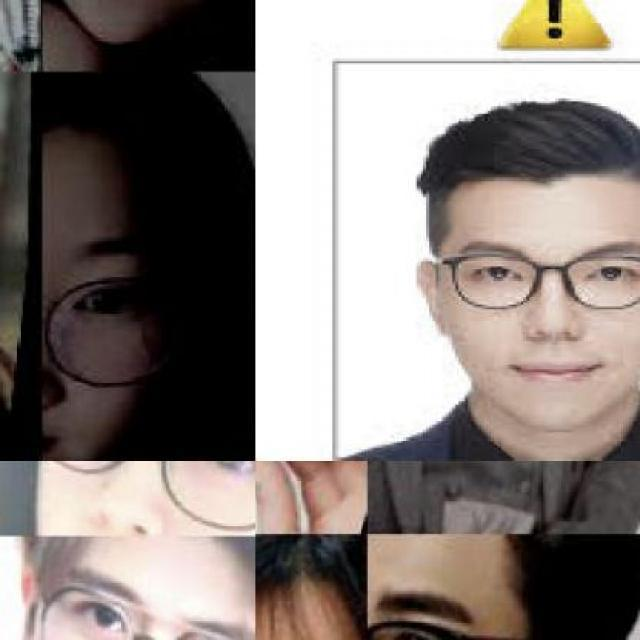glasses: (41, 249, 208, 408), (0, 460, 254, 536), (8, 564, 254, 638), (426, 240, 639, 325), (368, 550, 564, 638)
